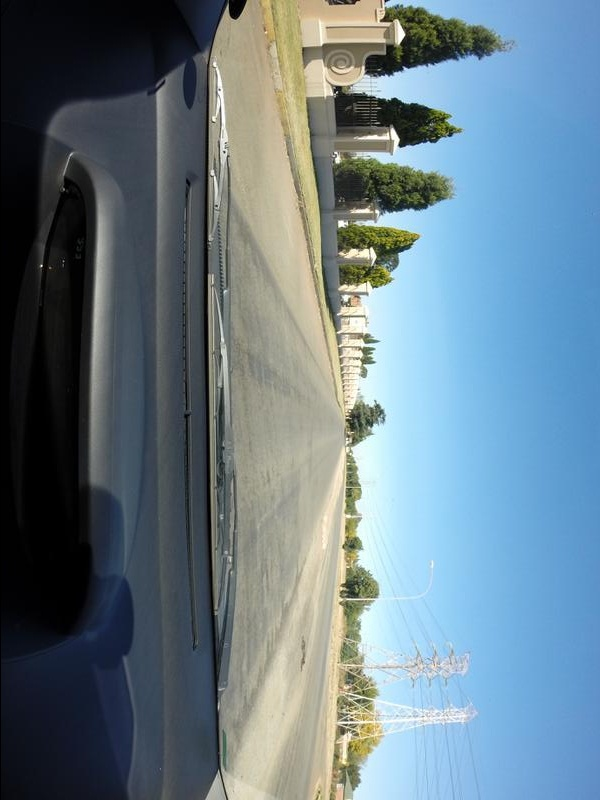pothole: (298, 639, 305, 675)
